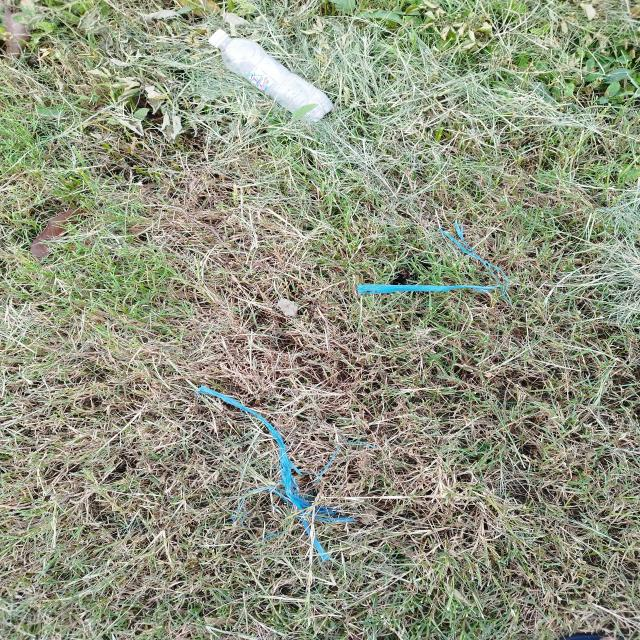bottle: (208, 28, 334, 124)
